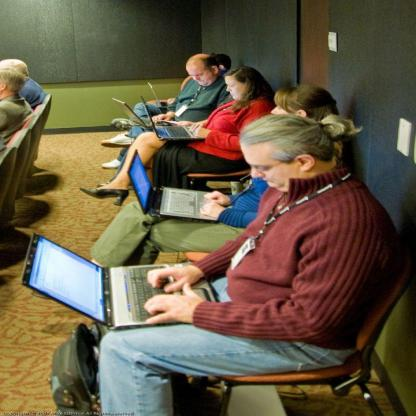board: (22, 233, 217, 330), (125, 148, 221, 224), (140, 93, 205, 141), (110, 96, 155, 129), (147, 81, 169, 109)
